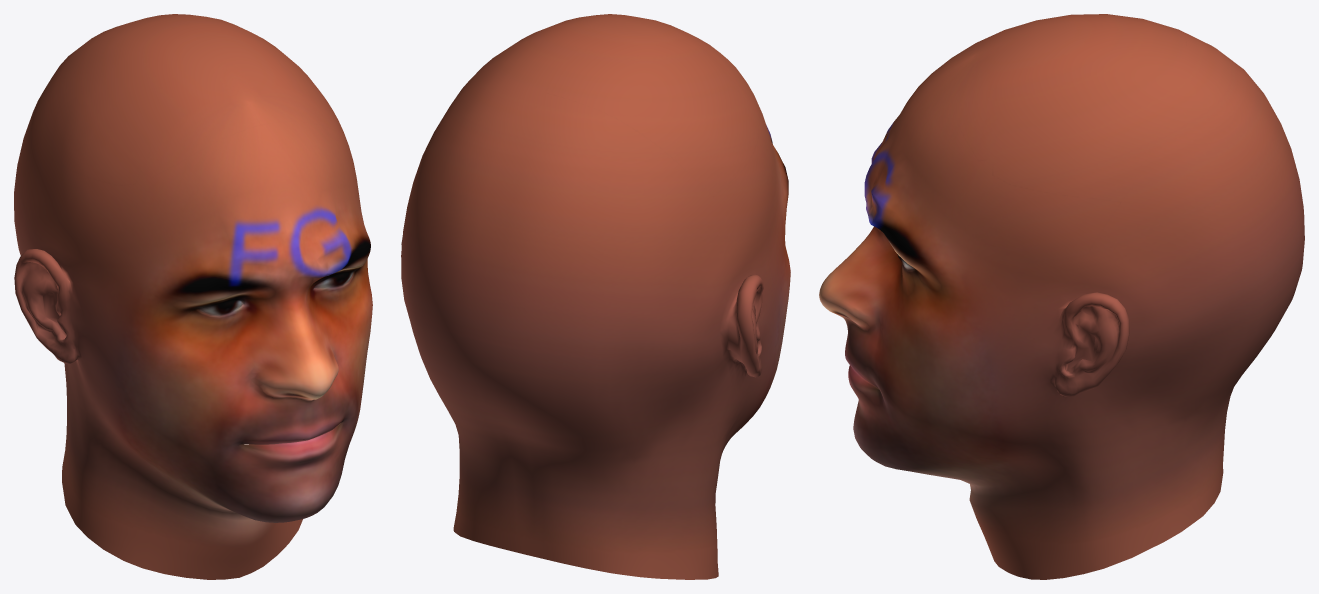
The model's file is random_anyrace_anysex_02.obj.
The picture shows the model from 3 angles, left to right: view 1: azimuth 30°, elevation 25°; view 2: azimuth 150°, elevation 25°; view 3: azimuth 270°, elevation 25°; orthographic projection. The views are drawn at different scales.
Parts seen in each view (by area): view 1: HeadHires; view 2: HeadHires; view 3: HeadHires.
Boxes of the visible parts, left/top/right/bottom form: HeadHires: left=14, top=14, right=372, bottom=579; HeadHires: left=401, top=14, right=790, bottom=579; HeadHires: left=819, top=14, right=1304, bottom=579.
Bounding box in the file's own units: 188 × 283 × 236.
1 material, 1 textured.
